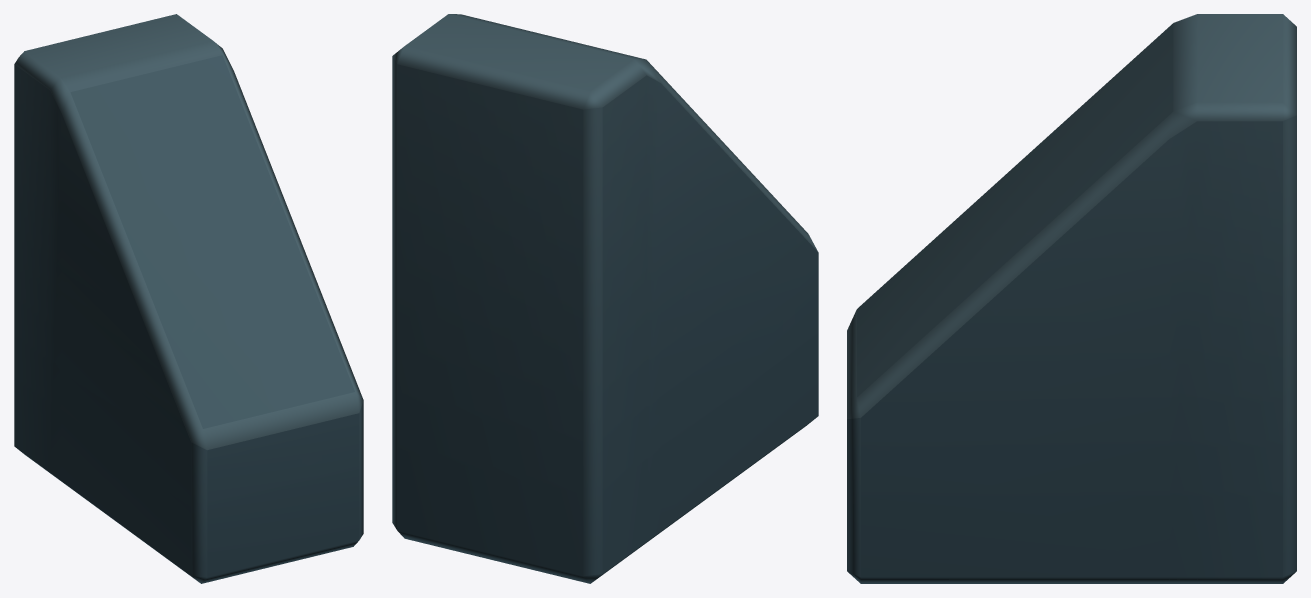
Rendered from stair_sidewall3.fbx.
The picture shows the model from 3 angles, left to right: view 1: azimuth 30°, elevation 25°; view 2: azimuth 150°, elevation 25°; view 3: azimuth 270°, elevation 25°; orthographic projection. The views are drawn at different scales.
Parts seen in each view (by area): view 1: stair_sidewall3; view 2: stair_sidewall3; view 3: stair_sidewall3.
Boxes of the visible parts, x1=… form: stair_sidewall3: x1=14, y1=14, x2=363, y2=583; stair_sidewall3: x1=392, y1=14, x2=818, y2=583; stair_sidewall3: x1=847, y1=14, x2=1296, y2=583.
Bounding box in the file's own units: 53.12 × 119 × 101.
